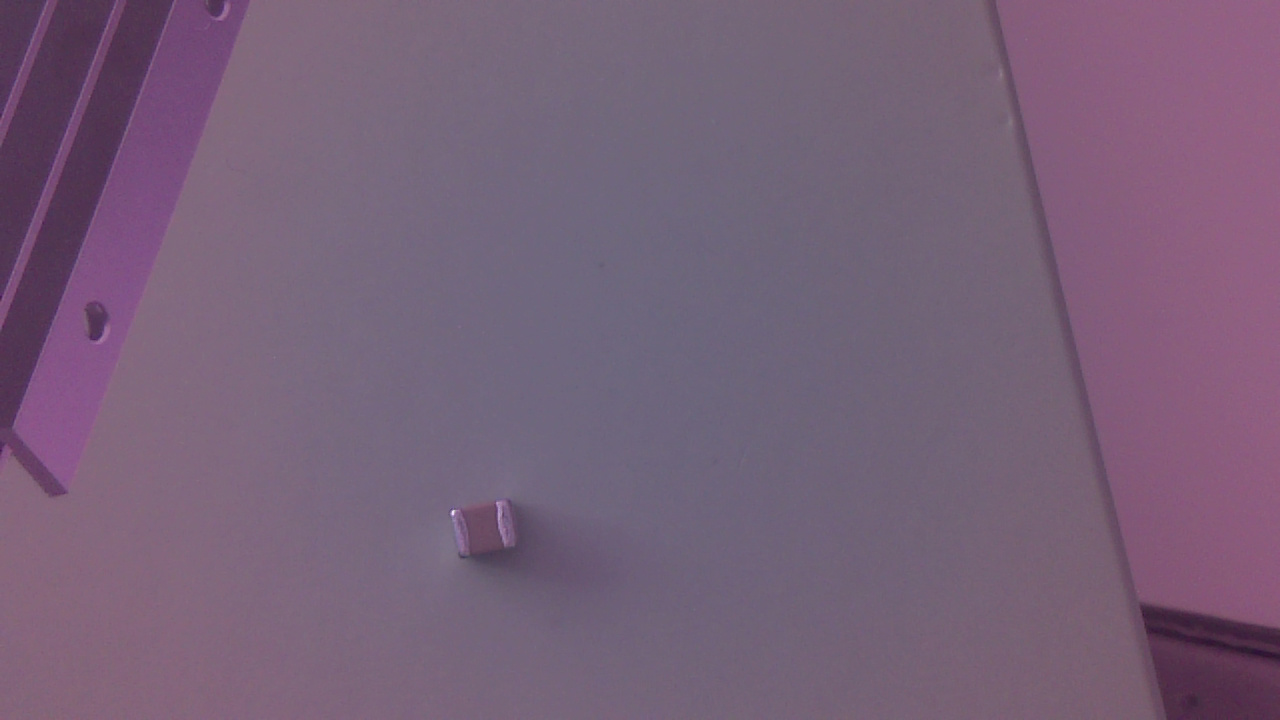Condensator: (445, 499, 532, 573)
